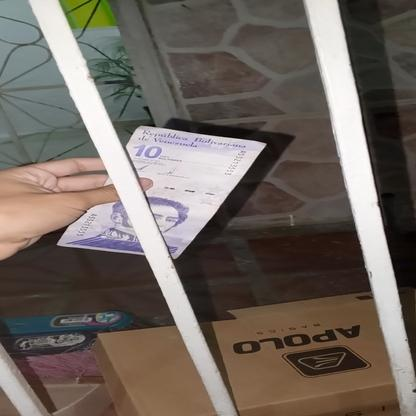ten-front-vef: (56, 124, 268, 258)
